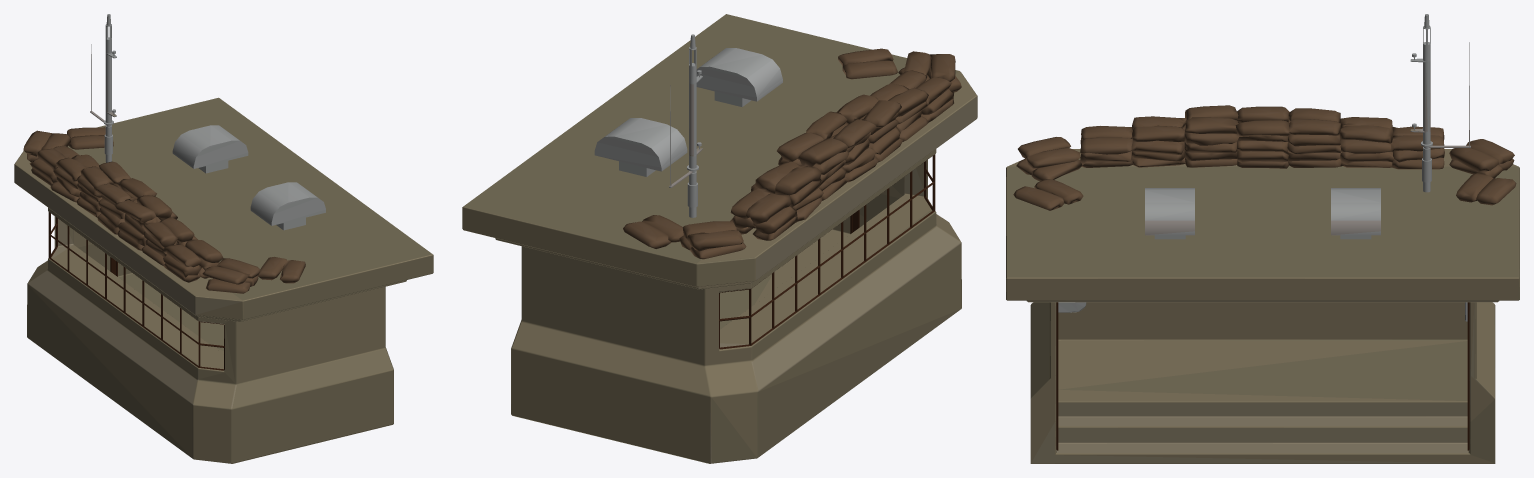
Rendered from base-outpost.glb.
3 views of the same model, side by side, from view 1: azimuth 30°, elevation 25°; view 2: azimuth 150°, elevation 25°; view 3: azimuth 270°, elevation 25° (orthographic). The views are drawn at different scales.
Visible parts, largest first — view 1: body; view 2: body; view 3: body.
Part boxes in pixels (x1=…): body: x1=14, y1=14, x2=433, y2=463; body: x1=462, y1=14, x2=977, y2=463; body: x1=1006, y1=14, x2=1519, y2=463.
Bounding box in the file's own units: 5.98 × 8.11 × 9.95.
